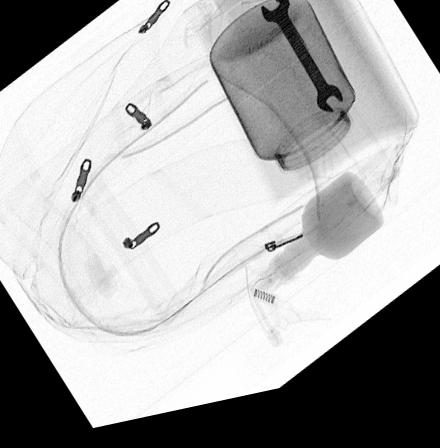Wrench: (258, 4, 344, 129)
